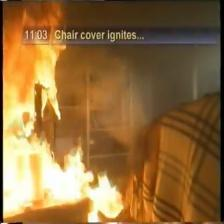fire: (2, 1, 124, 219)
